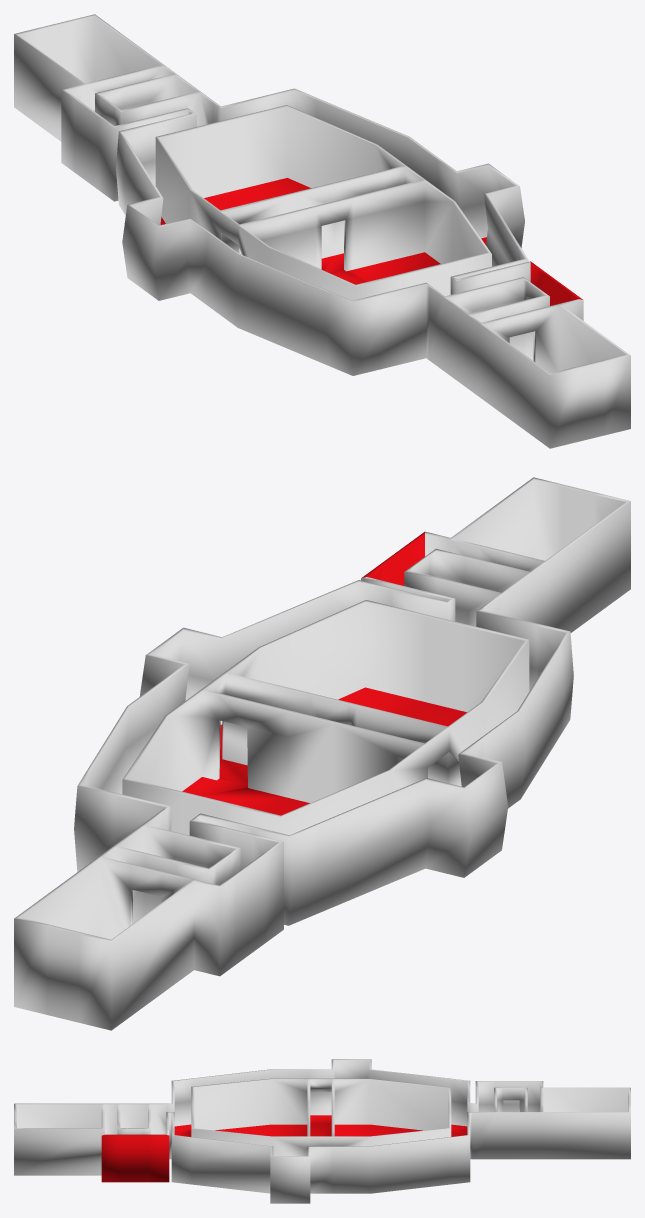
Rendered from SubLevel1.fbx.
3 renders of one model, top to bottom at view 1: azimuth 30°, elevation 25°; view 2: azimuth 150°, elevation 25°; view 3: azimuth 270°, elevation 25°, orthographic. The views are drawn at different scales.
Visible parts, largest first — view 1: +1; view 2: +1; view 3: +1.
Part boxes in pixels (<box>): +1: <box>14,14,630,448</box>; +1: <box>14,477,630,1030</box>; +1: <box>14,1059,630,1203</box>.
Bounding box in the file's own units: 3042 × 661 × 7889.
